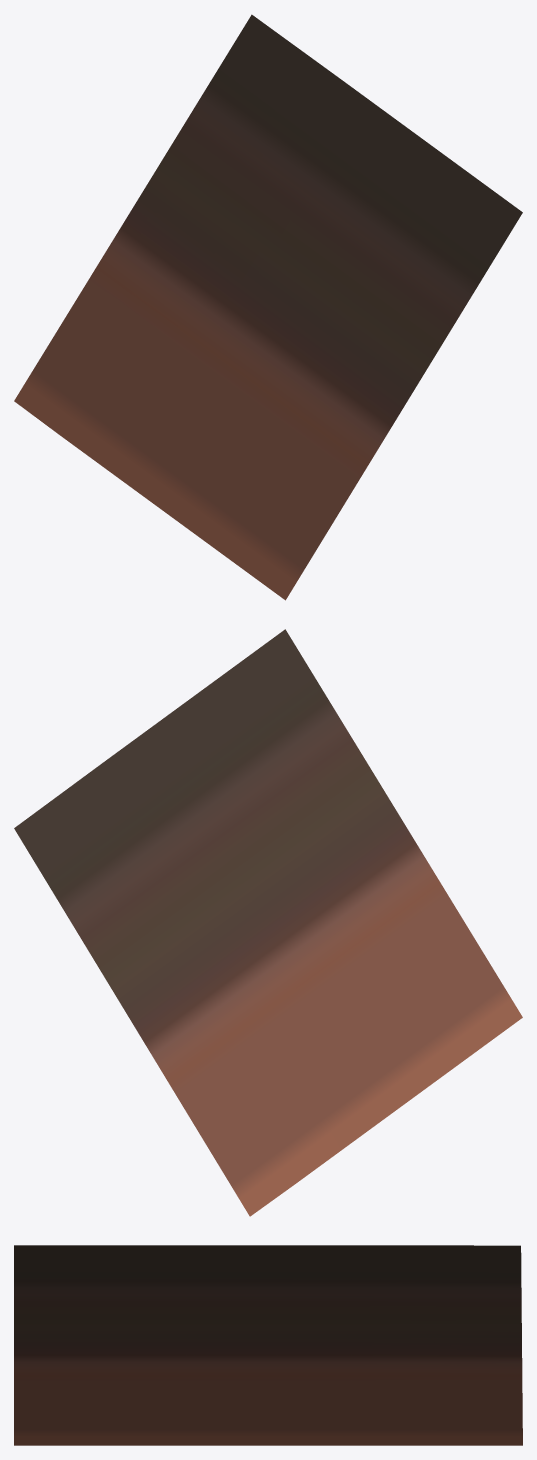
File: Steeple_Roof_Straight_Base.fbx
3 views of the same model, one above another, from view 1: azimuth 30°, elevation 25°; view 2: azimuth 150°, elevation 25°; view 3: azimuth 270°, elevation 25° (orthographic). The views are drawn at different scales.
Parts seen in each view (by area): view 1: polySurface5312; view 2: polySurface5312; view 3: polySurface5312.
Boxes of the visible parts, box(x1,y1,x2,y2) form: polySurface5312: box(14, 14, 522, 600); polySurface5312: box(14, 629, 522, 1216); polySurface5312: box(14, 1245, 522, 1445).
Size of the model in its own units: 201 by 268 by 400.
